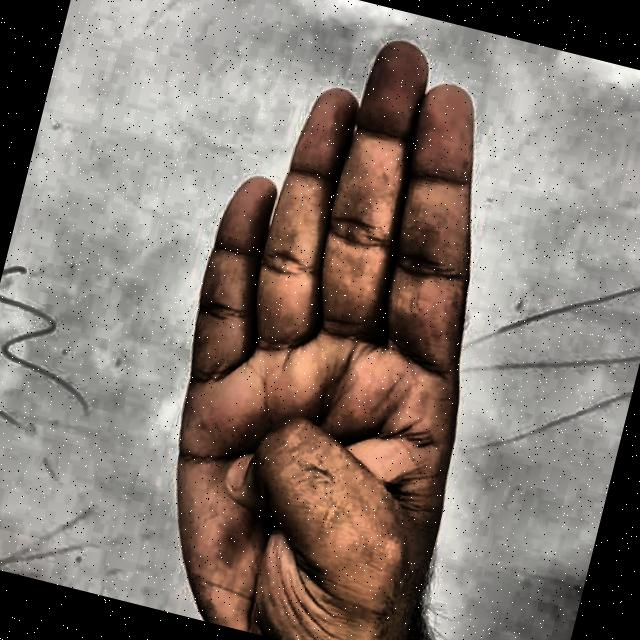Ba: (84, 0, 597, 640)
